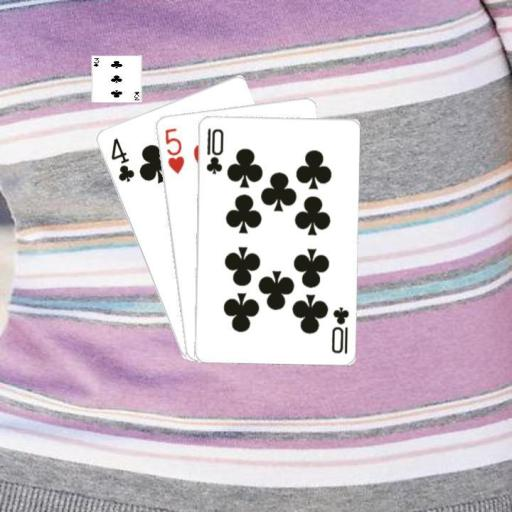10C: (328, 304, 351, 355), (203, 125, 225, 176)
4C: (107, 135, 136, 184)
5H: (161, 124, 186, 175)
